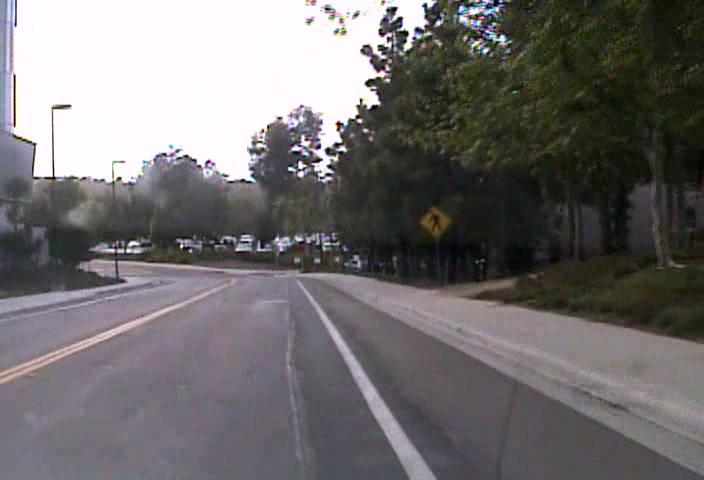pedestrianCrossing: (418, 205, 453, 240)
